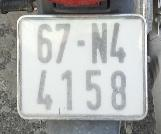1: (59, 68, 75, 112)
4: (34, 68, 53, 112), (109, 19, 127, 65)
5: (81, 67, 104, 111)
6: (36, 22, 54, 64)
7: (54, 21, 71, 65)
8: (110, 68, 128, 114)
N: (89, 22, 108, 64)
